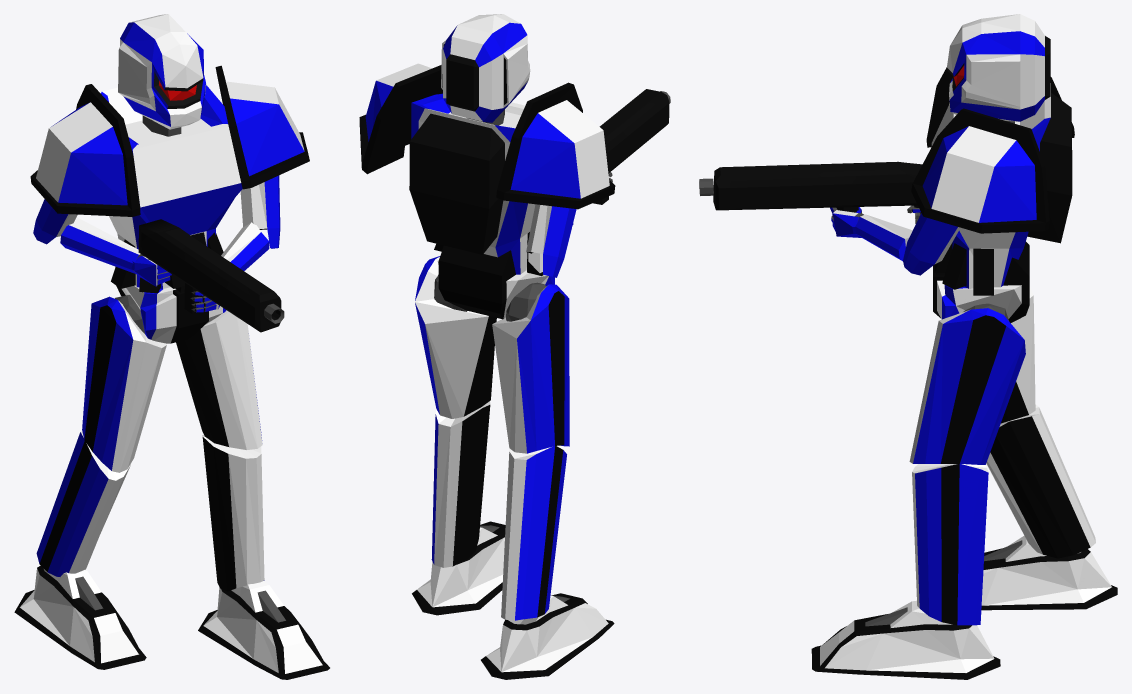
The model's file is robots_000001.obj.
The picture shows the model from 3 angles, left to right: view 1: azimuth 30°, elevation 25°; view 2: azimuth 150°, elevation 25°; view 3: azimuth 270°, elevation 25°; orthographic projection. The views are drawn at different scales.
Parts seen in each view (by area): view 1: Chest_plate_Cube.004, Cube.002_Cube.059, R_Thigh_Cube.005, R_Thigh.002_Cube.027, Head_base_Cube.022, R_Foot_Cube, R_Shin.002_Cube.029, R_Foot.002_Cube.035, Cube_Cube.001, R_Shin_Cube.007, Cube_Cube.021, Pelvis_Cube.006 (+5 smaller); view 2: Chest_plate_Cube.004, Cube.002_Cube.059, R_Thigh_Cube.005, R_Shin_Cube.007, Head_base_Cube.022, R_Thigh.002_Cube.027, R_Shin.002_Cube.029, R_Foot_Cube, Cube_Cube.021, Pelvis_Cube.006, R_Foot.002_Cube.035, Cube_Cube.001 (+2 smaller); view 3: Cube_Cube.021, R_Thigh.002_Cube.027, R_Shin.002_Cube.029, R_Foot.002_Cube.035, Head_base_Cube.022, R_Shin_Cube.007, Cube_Cube.001, Chest_plate_Cube.004, R_Foot_Cube, Pelvis_Cube.006, L_Arm_Cube.014, R_Thigh_Cube.005 (+3 smaller).
Part boxes in pixels (x1,y1,x2,y2): Chest_plate_Cube.004: [101, 85, 242, 293]; Cube.002_Cube.059: [30, 84, 140, 216]; R_Thigh_Cube.005: [82, 296, 166, 472]; R_Thigh.002_Cube.027: [176, 310, 262, 449]; Head_base_Cube.022: [118, 14, 206, 129]; R_Foot_Cube: [14, 565, 146, 669]; R_Shin.002_Cube.029: [202, 435, 264, 591]; R_Foot.002_Cube.035: [198, 581, 329, 679]; Cube_Cube.001: [138, 219, 284, 332]; R_Shin_Cube.007: [36, 431, 131, 576]; Cube_Cube.021: [215, 65, 309, 189]; Pelvis_Cube.006: [116, 285, 226, 343]; Chest_plate_Cube.004: [409, 93, 543, 275]; Cube.002_Cube.059: [496, 82, 615, 209]; R_Thigh_Cube.005: [492, 284, 569, 453]; R_Shin_Cube.007: [501, 446, 566, 620]; Head_base_Cube.022: [441, 14, 530, 122]; R_Thigh.002_Cube.027: [415, 256, 496, 418]; R_Shin.002_Cube.029: [431, 401, 490, 567]; R_Foot_Cube: [481, 593, 614, 679]; Cube_Cube.021: [359, 63, 442, 174]; Pelvis_Cube.006: [437, 245, 554, 319]; R_Foot.002_Cube.035: [412, 521, 505, 615]; Cube_Cube.001: [593, 89, 670, 204]; Cube_Cube.021: [911, 108, 1049, 233]; R_Thigh.002_Cube.027: [909, 308, 1025, 464]; R_Shin.002_Cube.029: [912, 464, 988, 625]; R_Foot.002_Cube.035: [811, 600, 1000, 679]; Head_base_Cube.022: [947, 14, 1050, 121]; R_Shin_Cube.007: [986, 404, 1095, 558]; Cube_Cube.001: [699, 161, 922, 214]; Chest_plate_Cube.004: [931, 83, 1072, 295]; R_Foot_Cube: [981, 536, 1117, 610]; Pelvis_Cube.006: [933, 242, 1029, 322]; L_Arm_Cube.014: [903, 213, 960, 275]; R_Thigh_Cube.005: [1001, 285, 1035, 423].
Size of the model in its own units: 1.32 by 3.03 by 1.87.
